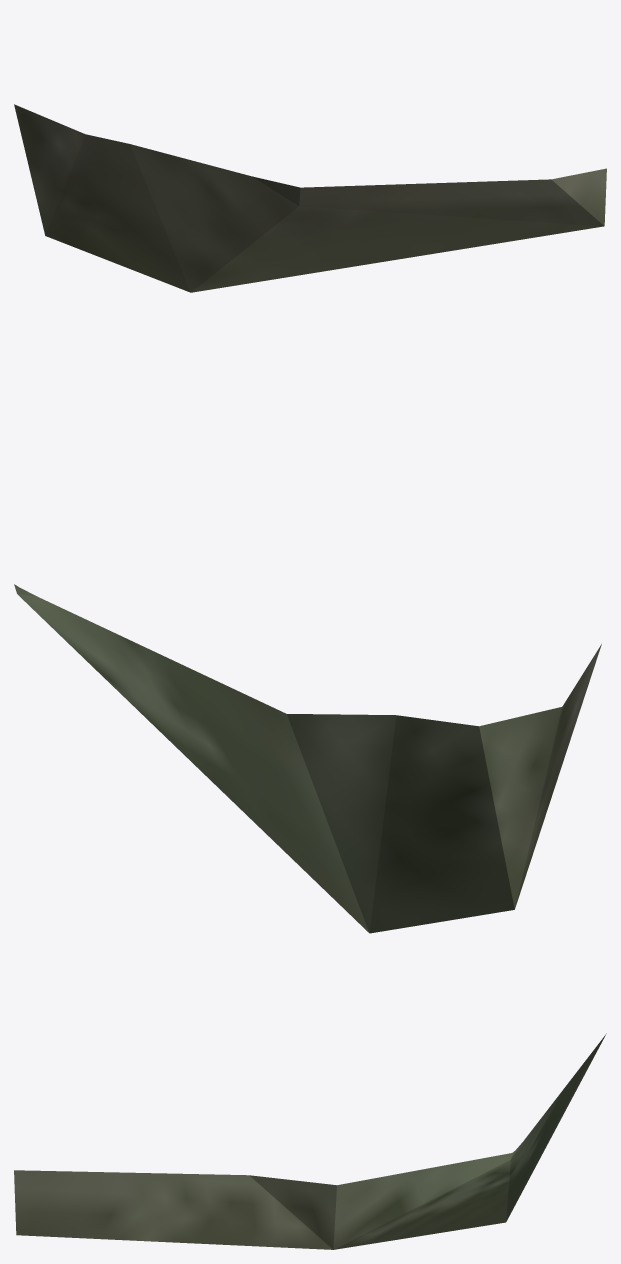
3 renders of one model, top to bottom at view 1: azimuth 30°, elevation 25°; view 2: azimuth 150°, elevation 25°; view 3: azimuth 270°, elevation 25°, orthographic. The views are drawn at different scales.
Size of the model in its own units: 0.5354 by 0.2175 by 0.6012.
Materials: 1 (1 with a texture image).
